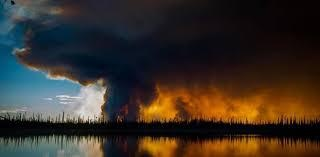fire: (130, 77, 317, 122)
